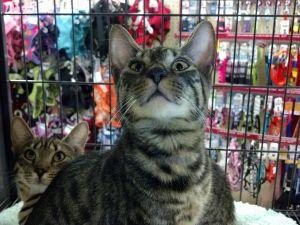bengal: (102, 16, 227, 132)
